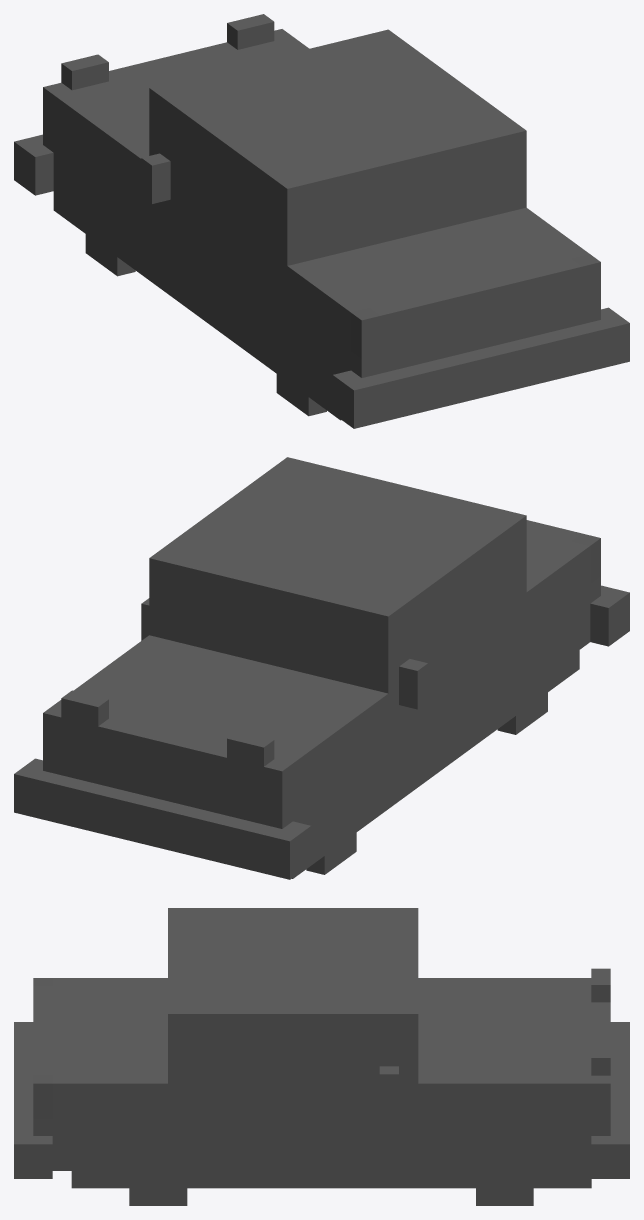
File: veh_car3.obj
3 renders of one model, top to bottom at view 1: azimuth 30°, elevation 25°; view 2: azimuth 150°, elevation 25°; view 3: azimuth 270°, elevation 25°, orthographic. The views are drawn at different scales.
Bounding box in the file's own units: 15 × 11 × 32.
